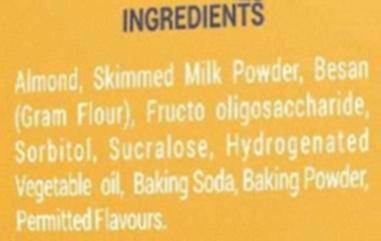ingredients: (5, 5, 381, 241)
